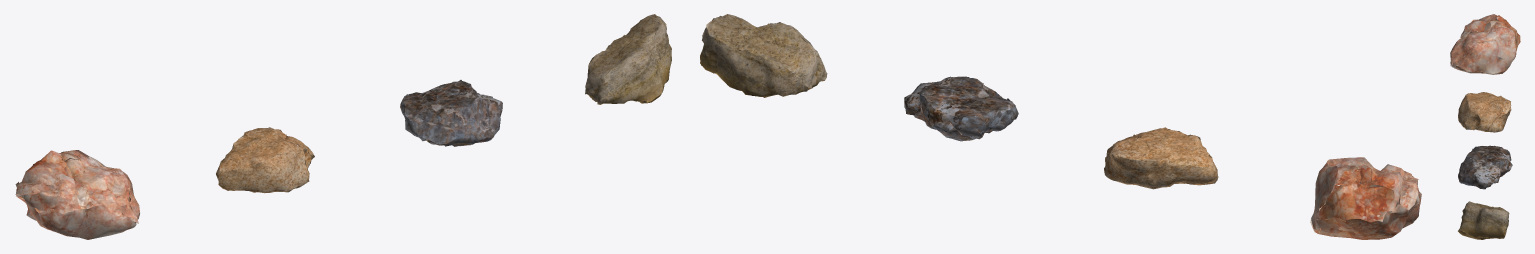
Rendered from kf_rocks.glb.
3 views of the same model, side by side, from view 1: azimuth 30°, elevation 25°; view 2: azimuth 150°, elevation 25°; view 3: azimuth 270°, elevation 25° (orthographic). The views are drawn at different scales.
Visible parts, largest first — view 1: namaqualand_rocks_02_a, namaqualand_rocks_02_d, namaqualand_rocks_02_c, namaqualand_rocks_02_b; view 2: namaqualand_rocks_02_d, namaqualand_rocks_02_a, namaqualand_rocks_02_b, namaqualand_rocks_02_c; view 3: namaqualand_rocks_02_a, namaqualand_rocks_02_b, namaqualand_rocks_02_c, namaqualand_rocks_02_d.
Boxes of the visible parts, box(x1,y1,x2,y2) form: namaqualand_rocks_02_a: box(15, 150, 139, 239); namaqualand_rocks_02_d: box(585, 14, 671, 104); namaqualand_rocks_02_c: box(400, 80, 502, 146); namaqualand_rocks_02_b: box(216, 127, 314, 193); namaqualand_rocks_02_d: box(700, 14, 827, 97); namaqualand_rocks_02_a: box(1310, 157, 1421, 239); namaqualand_rocks_02_b: box(1104, 127, 1218, 189); namaqualand_rocks_02_c: box(904, 76, 1018, 141); namaqualand_rocks_02_a: box(1450, 14, 1520, 74); namaqualand_rocks_02_b: box(1458, 92, 1511, 132); namaqualand_rocks_02_c: box(1458, 145, 1512, 189); namaqualand_rocks_02_d: box(1458, 201, 1509, 239).
Size of the model in its own units: 1.45 by 0.1546 by 0.2155.
1 material, 1 textured.
